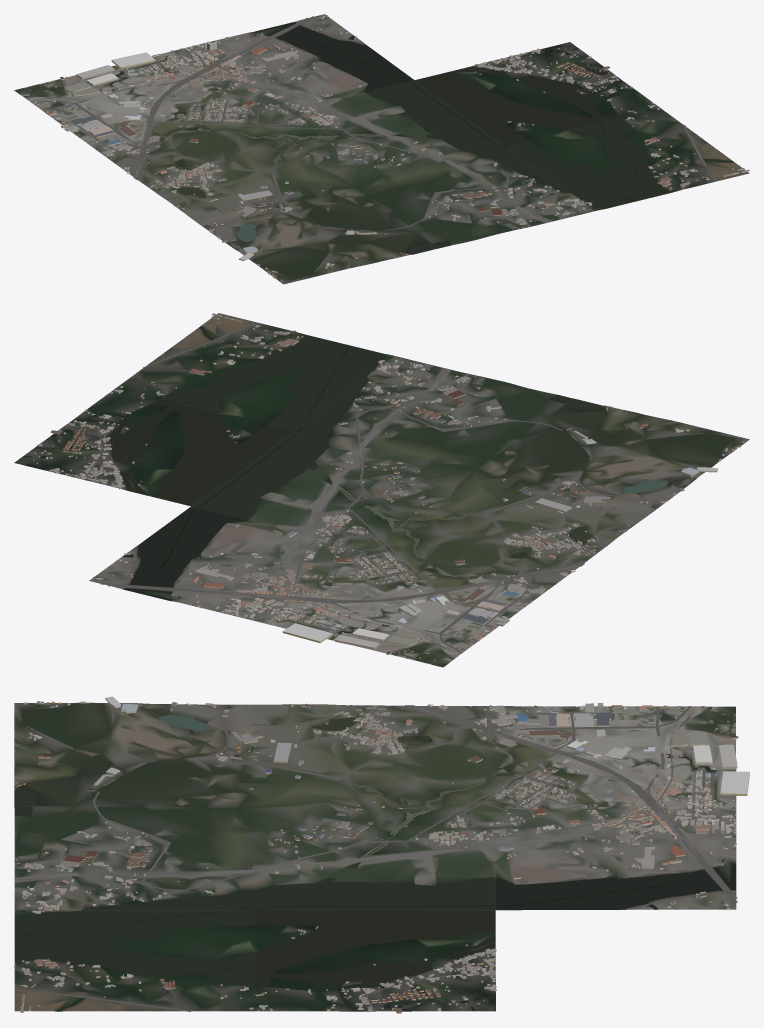
3 views of the same model, one above another, from view 1: azimuth 30°, elevation 25°; view 2: azimuth 150°, elevation 25°; view 3: azimuth 270°, elevation 25° (orthographic). The views are drawn at different scales.
Visible parts, largest first — view 1: ground, water, buildings, roads; view 2: ground, water, buildings, roads; view 3: ground, water, buildings, roads.
Part boxes in pixels (left/top/right/bottom): ground: left=14, top=14, right=749, bottom=284; water: left=14, top=22, right=733, bottom=254; buildings: left=33, top=15, right=749, bottom=281; roads: left=26, top=16, right=718, bottom=282; ground: left=14, top=313, right=749, bottom=666; water: left=18, top=326, right=668, bottom=667; buildings: left=33, top=313, right=744, bottom=658; roads: left=65, top=321, right=749, bottom=657; ground: left=14, top=702, right=736, bottom=1011; water: left=14, top=706, right=735, bottom=1011; buildings: left=14, top=696, right=749, bottom=1013; roads: left=14, top=703, right=737, bottom=1011.
Bounding box in the file's own units: 4297 × 62.95 × 4285.
